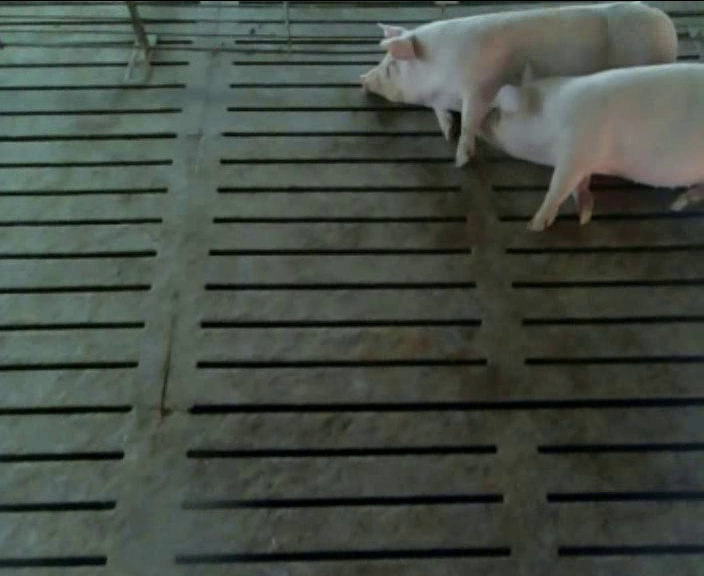pig: (362, 3, 676, 165), (481, 57, 703, 230)
